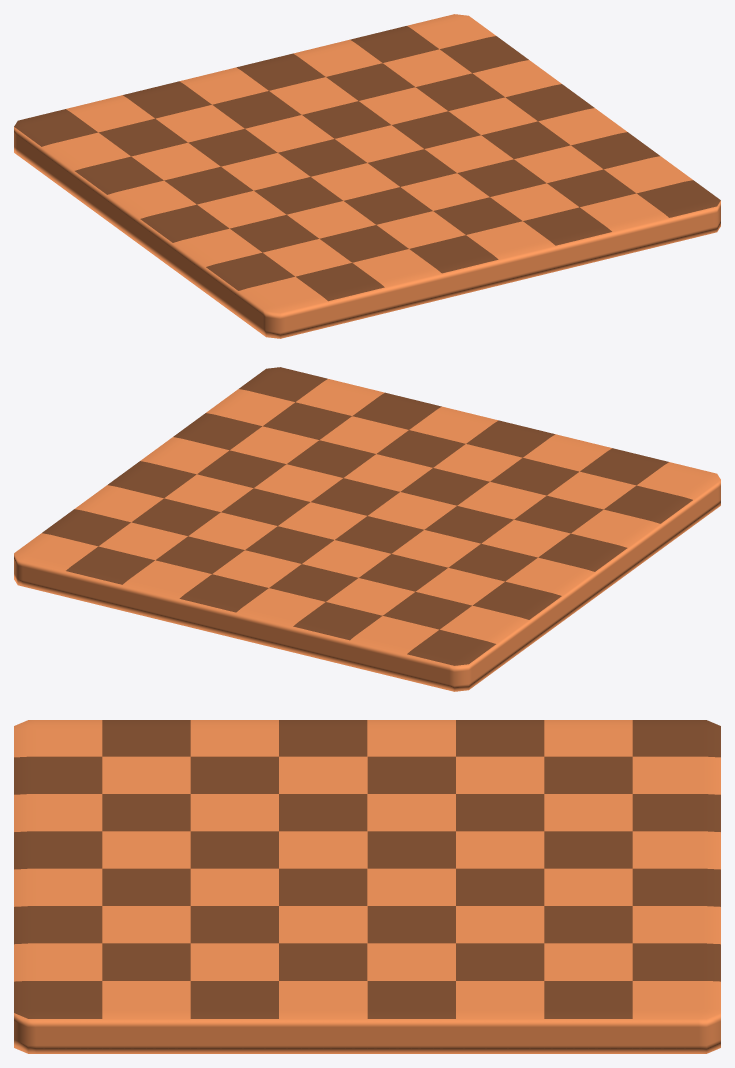
The model's file is checkerboard.gltf.
The picture shows the model from 3 angles, top to bottom: view 1: azimuth 30°, elevation 25°; view 2: azimuth 150°, elevation 25°; view 3: azimuth 270°, elevation 25°; orthographic projection. The views are drawn at different scales.
Parts seen in each view (by area): view 1: Cube; view 2: Cube; view 3: Cube.
Boxes of the visible parts, x1=… form: Cube: x1=14, y1=14, x2=720, y2=338; Cube: x1=14, y1=367, x2=720, y2=691; Cube: x1=14, y1=720, x2=720, y2=1053.
Size of the model in its own units: 17.6 by 1 by 17.6.
